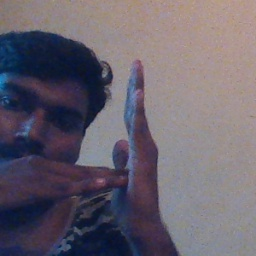Z: (58, 54, 174, 243)
